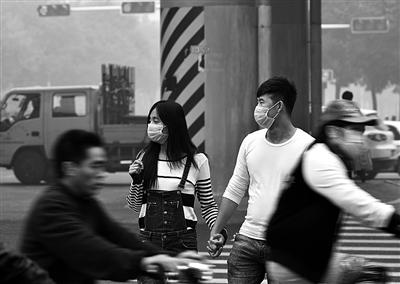NONE: (77, 158, 107, 194)
OK: (336, 124, 368, 158), (252, 97, 284, 129), (148, 117, 173, 144)
